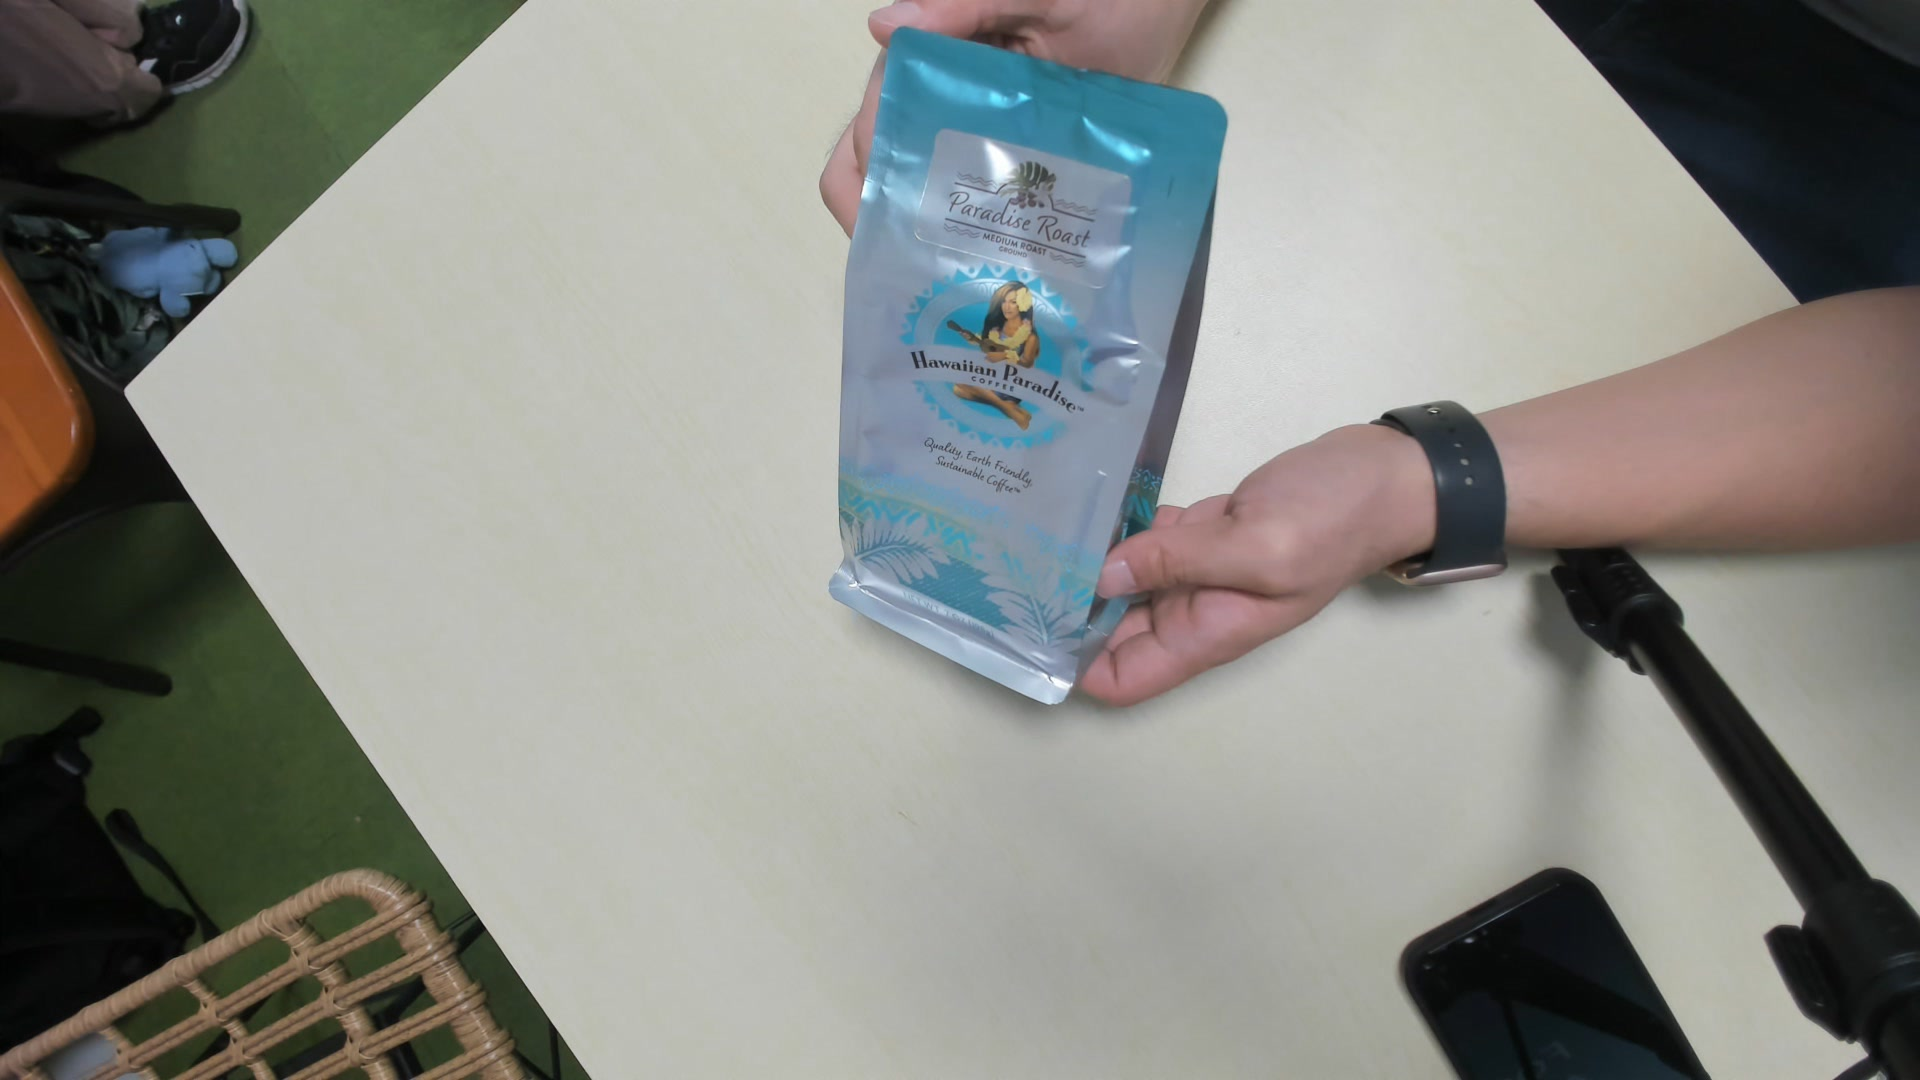Coffee_100-199g_NonHalal_NonHealthy: (833, 32, 1211, 713)
